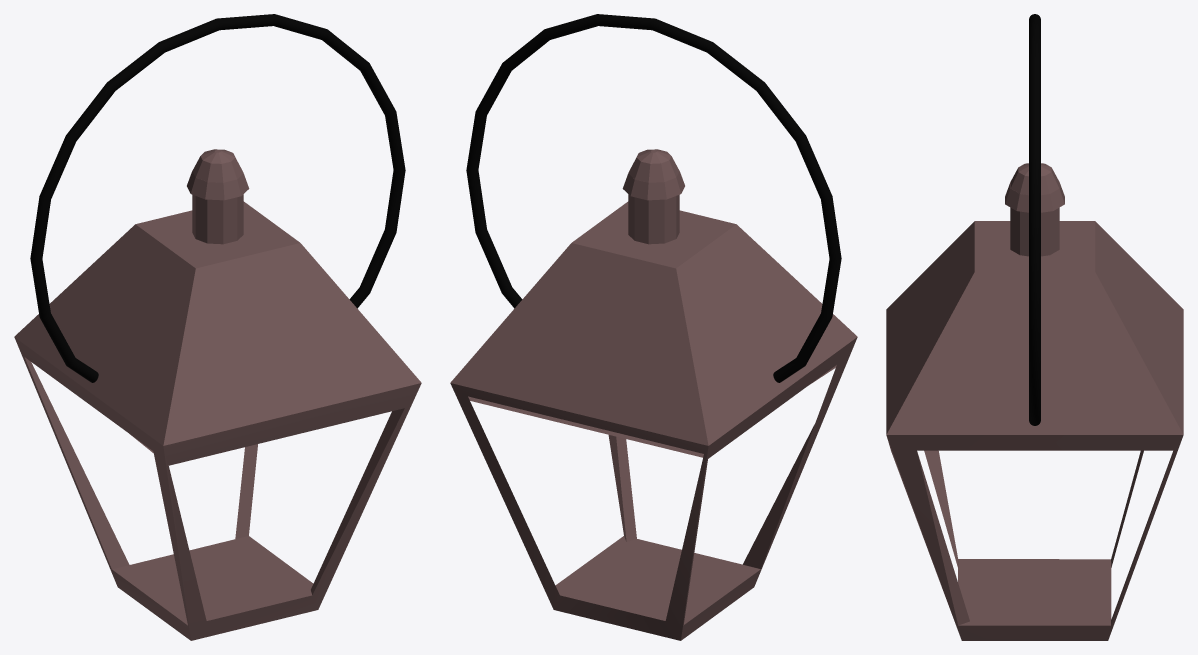
Rendered from lamp.fbx.
3 renders of one model, left to right at view 1: azimuth 30°, elevation 25°; view 2: azimuth 150°, elevation 25°; view 3: azimuth 270°, elevation 25°, orthographic.
Visible parts, largest first — view 1: base, handle, bezel; view 2: base, handle, bezel; view 3: base, handle, bezel.
Boxes of the visible parts, x1,y1,x2,y2 form: base: [14, 201, 421, 640]; handle: [30, 14, 405, 382]; bezel: [187, 149, 249, 244]; base: [450, 201, 857, 640]; handle: [466, 14, 841, 382]; bezel: [622, 149, 684, 244]; base: [886, 221, 1183, 640]; handle: [1029, 14, 1040, 425]; bezel: [1005, 163, 1064, 256].
Bounding box in the file's own units: 5.93 × 8.79 × 4.1.
